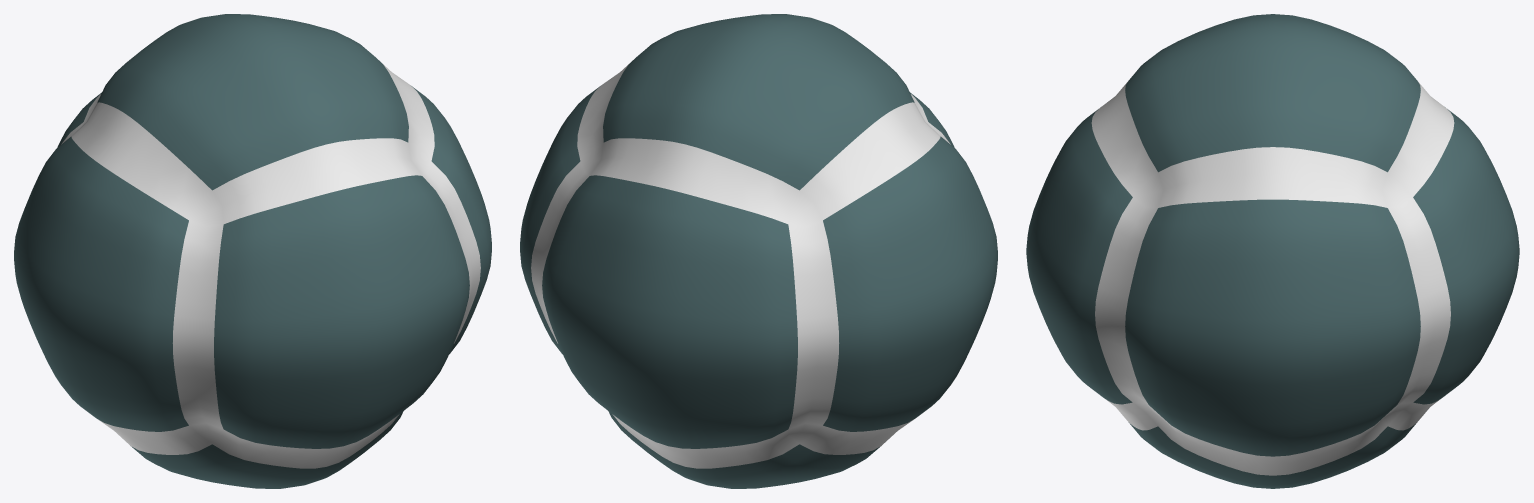
File: ball.fbx
3 views of the same model, side by side, from view 1: azimuth 30°, elevation 25°; view 2: azimuth 150°, elevation 25°; view 3: azimuth 270°, elevation 25° (orthographic).
Visible parts, largest first — view 1: Ball; view 2: Ball; view 3: Ball.
Part boxes in pixels (x1,y1,x2,y2): Ball: [14, 14, 491, 488]; Ball: [520, 14, 997, 488]; Ball: [1026, 14, 1519, 488].
Bounding box in the file's own units: 4.23 × 4.23 × 4.23.
